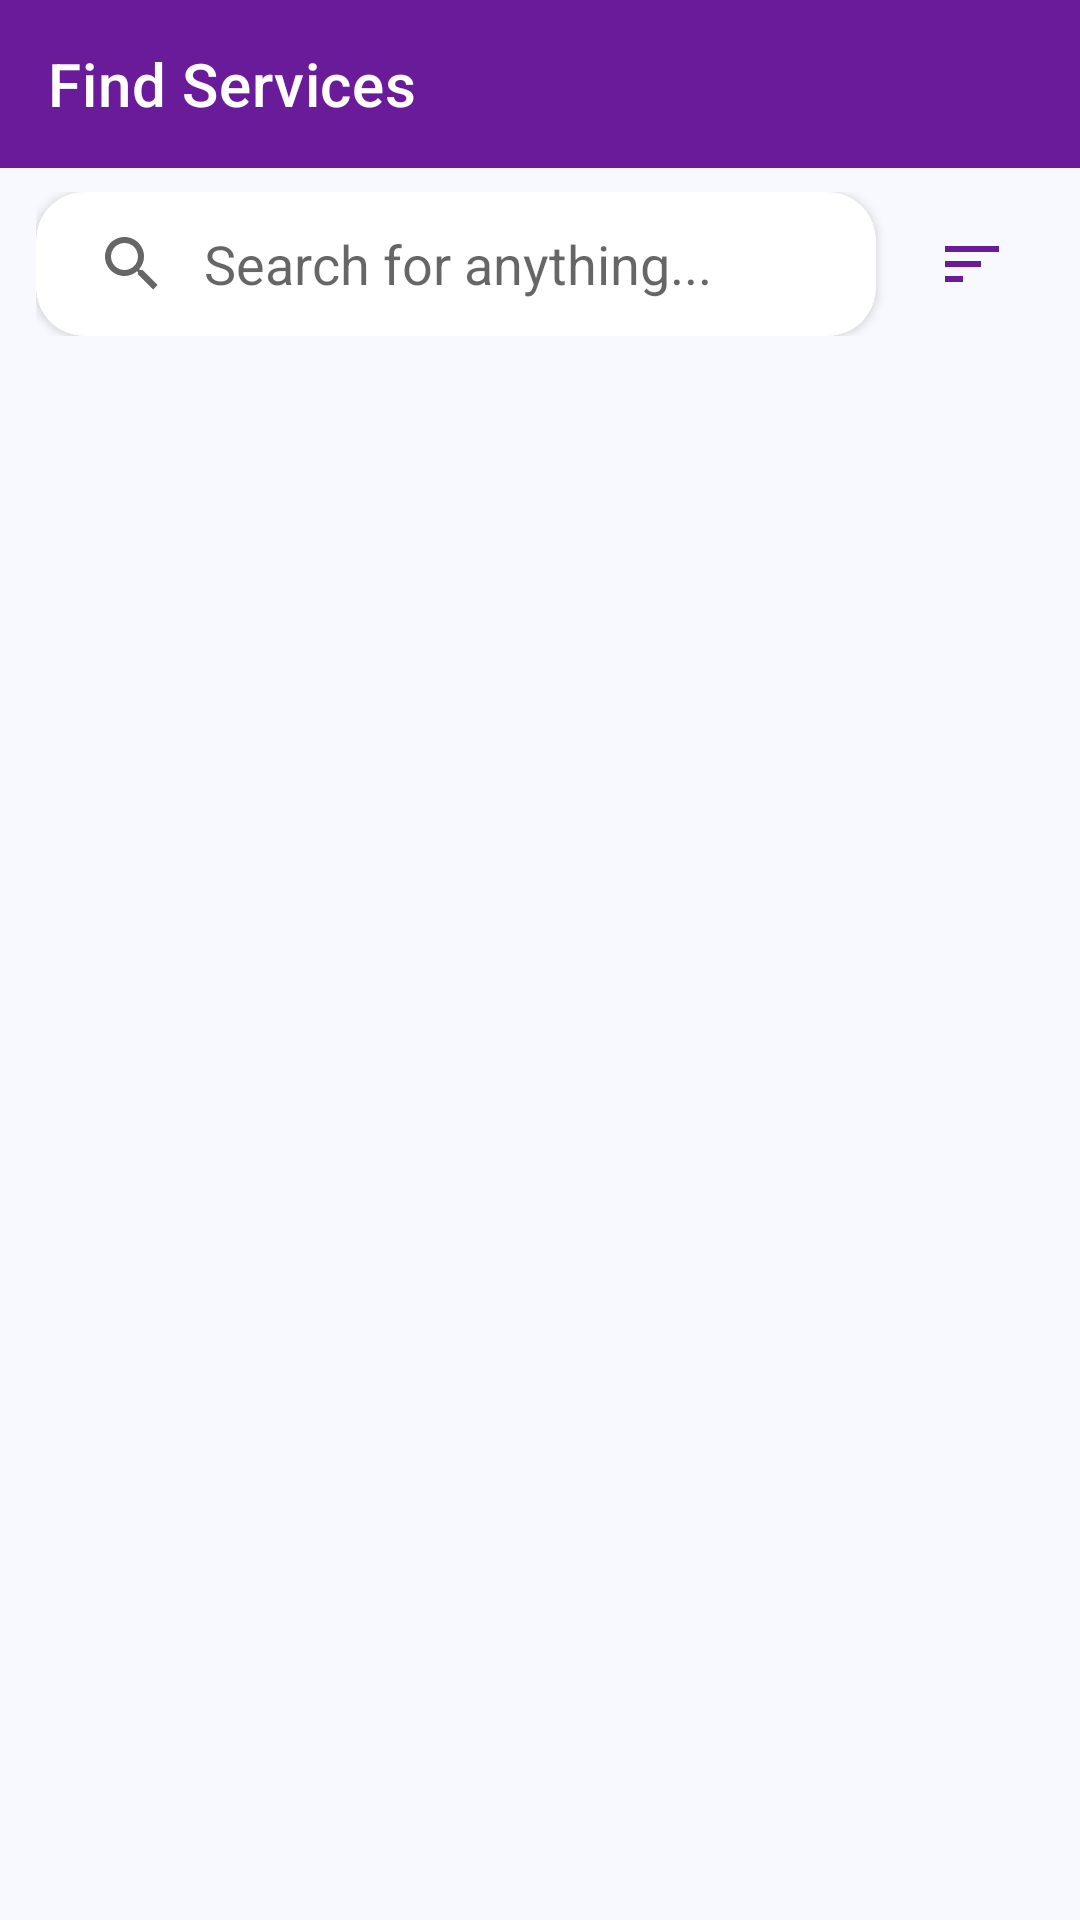

Point at icon controls on the screen. Image size 1080w x 1920h, points as (x=x, y=y).
sort: (x=972, y=264)
